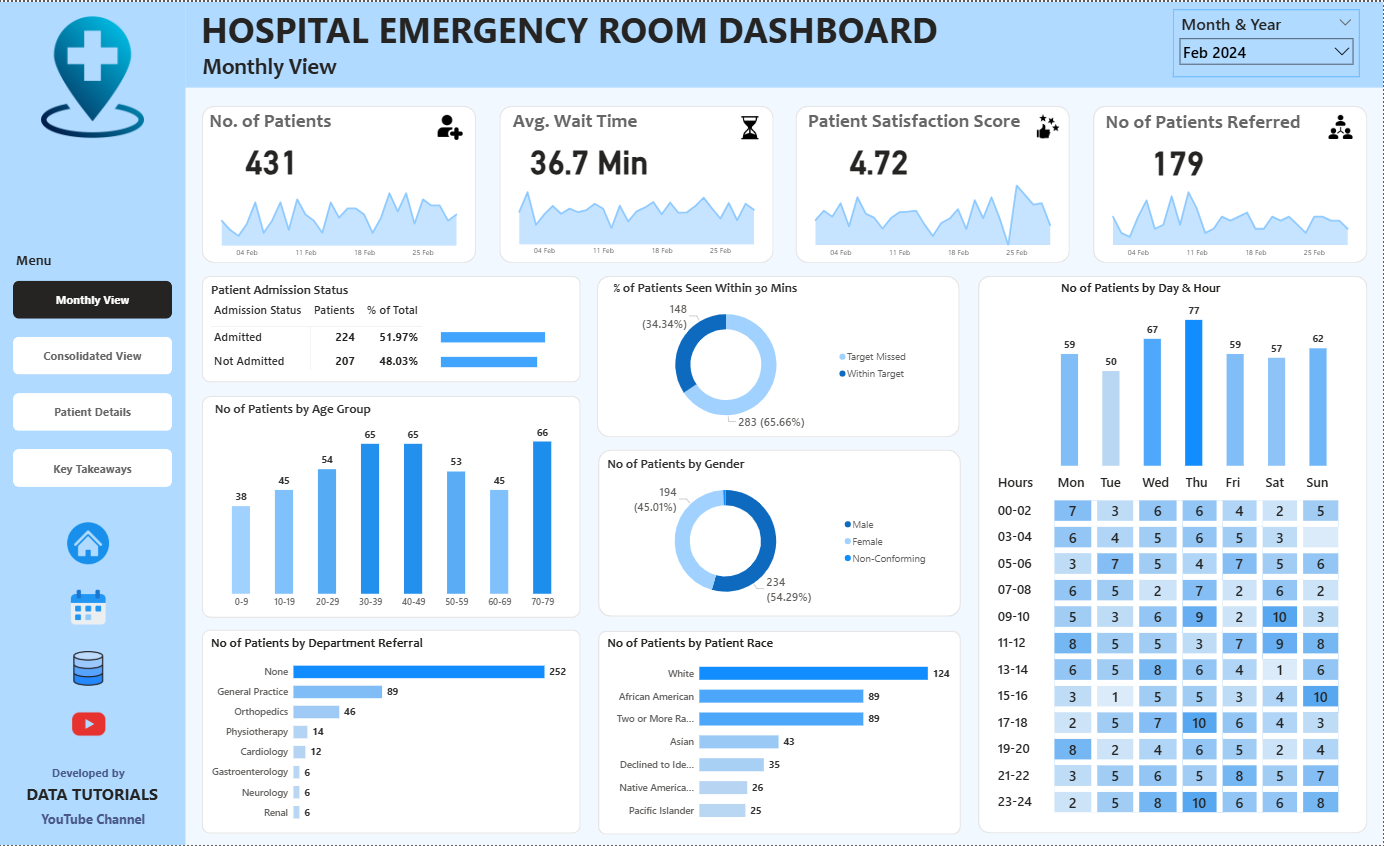

Layout of this report page (visuals, bound fields, positions):
{"tool":"powerbi","page":{"name":"Monthly View","canvas":[2300,1400],"ordinal":0},"visuals":[{"type":"shape","box":[0,0,320,1400],"z":0},{"type":"shape","box":[320.9,0,1979.1,140],"z":1000},{"type":"textbox","box":[320.9,0,1257.7,96.9],"z":2000},{"type":"shape","box":[339.5,161.9,455,260.8],"z":3000},{"type":"textbox","box":[321.2,78.8,285,61.2],"z":4000},{"type":"card","fields":{"Values":["mt4w8abaHayncGoPQZpxhQ.No Of Patient"]},"box":[371,211.3,173.1,96.7],"z":5000},{"type":"slicer","fields":{"Values":["Date Table.Month Name"]},"box":[1958.3,24.7,274.3,85.4],"z":6000},{"type":"slicer","fields":{"Values":["Date Table.Year"]},"box":[1661.5,24.7,274.3,85.4],"z":7000},{"type":"textbox","box":[364.2,179.9,242.8,60.7],"z":8000},{"type":"areaChart","fields":{"Category":["Date Table.Date.Variation.Date Hierarchy.Day"],"Y":["mt4w8abaHayncGoPQZpxhQ.No Of Patient"]},"box":[340.4,279.3,434.3,144],"z":9000},{"type":"card","fields":{"Values":["Min(Date Table.Month & Year)"]},"box":[674.3,89.5,198.6,37.1],"z":10000},{"type":"shape","box":[834.3,166,455,258.7],"z":11000},{"type":"card","fields":{"Values":["mt4w8abaHayncGoPQZpxhQ.Avg Wait Time"]},"box":[872.9,209.5,209.5,96],"z":12000},{"type":"textbox","box":[850.3,174.3,242.8,60.7],"z":13000},{"type":"areaChart","fields":{"Category":["Date Table.Date.Variation.Date Hierarchy.Day"],"Y":["Sum(mt4w8abaHayncGoPQZpxhQ.Patient Waittime)"]},"box":[846.7,279.3,434.3,144],"z":14000},{"type":"shape","box":[1329.1,163.9,455,260.9],"z":15000},{"type":"card","fields":{"Values":["mt4w8abaHayncGoPQZpxhQ.Satisfaction Score"]},"box":[1365.8,217.9,173.1,96.7],"z":16000},{"type":"textbox","box":[1359.5,185.5,375.3,61.1],"z":17000},{"type":"shape","box":[340.2,478.9,631.3,176.9],"z":18000},{"type":"areaChart","fields":{"Category":["Date Table.Date.Variation.Date Hierarchy.Day"],"Y":["mt4w8abaHayncGoPQZpxhQ.Satisfaction Score"]},"box":[1335.3,285.9,434.3,144],"z":19000},{"type":"shape","box":[1824,163.9,455,260.9],"z":20000},{"type":"card","fields":{"Values":["mt4w8abaHayncGoPQZpxhQ.No of Patient Reffered"]},"box":[1897.1,224.8,173.1,96.7],"z":21000},{"type":"textbox","box":[1891.3,193.2,364.7,59.9],"z":22000},{"type":"areaChart","fields":{"Category":["Date Table.Date.Variation.Date Hierarchy.Day"],"Y":["mt4w8abaHayncGoPQZpxhQ.No of Patient Reffered"]},"box":[1866.5,292.8,434.3,144],"z":23000},{"type":"pivotTable","title":"Patient Admission Status","fields":{"Rows":["mt4w8abaHayncGoPQZpxhQ.Admission Status"],"Values":["mt4w8abaHayncGoPQZpxhQ.No Of Patient1","mt4w8abaHayncGoPQZpxhQ.No Of Patient"]},"box":[340.2,478.9,631.3,176.9],"z":24000},{"type":"barChart","fields":{"Category":["mt4w8abaHayncGoPQZpxhQ.Admission Status"],"Y":["mt4w8abaHayncGoPQZpxhQ.No of Patient Reffered"]},"box":[702.1,533.4,215,106.1],"z":25000},{"type":"shape","box":[340.2,655.8,631.3,370.1],"z":26000},{"type":"clusteredColumnChart","fields":{"Category":["mt4w8abaHayncGoPQZpxhQ.Age Group"],"Y":["mt4w8abaHayncGoPQZpxhQ.No Of Patient"]},"box":[340.2,655.8,631.3,370.1],"z":27000},{"type":"shape","box":[340.2,1028.6,631.3,370.1],"z":28000},{"type":"clusteredBarChart","fields":{"Category":["mt4w8abaHayncGoPQZpxhQ.Department Referral"],"Y":["mt4w8abaHayncGoPQZpxhQ.No Of Patient"]},"box":[340.2,1050.4,609.6,326.6],"z":29000},{"type":"shape","box":[1028.9,480,600,271.1],"z":30000},{"type":"donutChart","title":"% Of Patients Within 30 Mins","fields":{"Category":["mt4w8abaHayncGoPQZpxhQ.waittime status"],"Y":["mt4w8abaHayncGoPQZpxhQ.No Of Patient"]},"box":[1011.1,480,544.4,271.1],"z":31000},{"type":"image","box":[724.8,183.1,52.8,51.2],"z":32000},{"type":"image","box":[1222.3,183.9,52.2,48.1],"z":33000},{"type":"image","box":[1735.6,182.2,57.8,51.1],"z":34000},{"type":"image","box":[2237.8,184.4,62.2,48.9],"z":35000},{"type":"image","box":[46.9,17.9,218.9,212.2],"z":36000},{"type":"image","box":[110.1,854.1,79.5,87.7],"z":37000},{"type":"image","box":[116.2,966.2,67.3,75.4],"z":38000},{"type":"image","box":[116.2,1068.1,67.3,75.4],"z":39000},{"type":"shape","box":[1028.9,771.1,600,271.1],"z":40000},{"type":"donutChart","title":"No Of Patients By Gender","fields":{"Category":["mt4w8abaHayncGoPQZpxhQ.Patient Gender"],"Y":["mt4w8abaHayncGoPQZpxhQ.No Of Patient"]},"box":[1011.1,780,544.4,271.1],"z":41000},{"type":"clusteredBarChart","fields":{"Category":["mt4w8abaHayncGoPQZpxhQ.Patient Race"],"Y":["mt4w8abaHayncGoPQZpxhQ.No Of Patient"]},"box":[1020,1068.9,608.9,326.7],"z":42000},{"type":"shape","box":[1680,480,600,897.8],"z":43000},{"type":"pivotTable","fields":{"Columns":["Date Table.Day Name"],"Rows":["mt4w8abaHayncGoPQZpxhQ.Waittime Interval"],"Values":["mt4w8abaHayncGoPQZpxhQ.No Of Patient"]},"box":[1681.4,751.2,607,614],"z":44000},{"type":"clusteredColumnChart","title":"No Of Patient By Day & Hour","fields":{"Category":["Date Table.Day Name"],"Y":["mt4w8abaHayncGoPQZpxhQ.No Of Patient"]},"box":[1797.7,486,472.1,265.1],"z":45000},{"type":"pageNavigator","box":[22.8,454.4,263.5,342.3],"z":46000},{"type":"textbox","box":[24.2,409.1,99.9,48.3],"z":47000},{"type":"textbox","box":[77.3,1261.1,146.6,37],"z":48000},{"type":"textbox","box":[24.9,1290.5,263.5,95.4],"z":48001}]}

Visuals, with their boxes in screenshot pixels (x1, y1, x2, y2), scaled from the page's 2300x1400 canvas onto the 1384x846 screenshot:
shape: (x1=0, y1=0, x2=193, y2=845)
shape: (x1=193, y1=0, x2=1383, y2=85)
textbox: (x1=193, y1=0, x2=950, y2=59)
shape: (x1=204, y1=98, x2=478, y2=255)
textbox: (x1=193, y1=48, x2=365, y2=85)
card - mt4w8abaHayncGoPQZpxhQ.No Of Patient: (x1=223, y1=128, x2=327, y2=186)
slicer - Date Table.Month Name: (x1=1178, y1=15, x2=1343, y2=67)
slicer - Date Table.Year: (x1=1000, y1=15, x2=1165, y2=67)
textbox: (x1=219, y1=109, x2=365, y2=145)
areaChart - Date Table.Date.Variation.Date Hierarchy.Day x mt4w8abaHayncGoPQZpxhQ.No Of Patient: (x1=205, y1=169, x2=466, y2=256)
card - Min(Date Table.Month & Year): (x1=406, y1=54, x2=525, y2=77)
shape: (x1=502, y1=100, x2=776, y2=257)
card - mt4w8abaHayncGoPQZpxhQ.Avg Wait Time: (x1=525, y1=127, x2=651, y2=185)
textbox: (x1=512, y1=105, x2=658, y2=142)
areaChart - Date Table.Date.Variation.Date Hierarchy.Day x Sum(mt4w8abaHayncGoPQZpxhQ.Patient Waittime): (x1=509, y1=169, x2=771, y2=256)
shape: (x1=800, y1=99, x2=1074, y2=257)
card - mt4w8abaHayncGoPQZpxhQ.Satisfaction Score: (x1=822, y1=132, x2=926, y2=190)
textbox: (x1=818, y1=112, x2=1044, y2=149)
shape: (x1=205, y1=289, x2=585, y2=396)
areaChart - Date Table.Date.Variation.Date Hierarchy.Day x mt4w8abaHayncGoPQZpxhQ.Satisfaction Score: (x1=804, y1=173, x2=1065, y2=260)
shape: (x1=1098, y1=99, x2=1371, y2=257)
card - mt4w8abaHayncGoPQZpxhQ.No of Patient Reffered: (x1=1142, y1=136, x2=1246, y2=194)
textbox: (x1=1138, y1=117, x2=1358, y2=153)
areaChart - Date Table.Date.Variation.Date Hierarchy.Day x mt4w8abaHayncGoPQZpxhQ.No of Patient Reffered: (x1=1123, y1=177, x2=1383, y2=264)
"Patient Admission Status" pivotTable: (x1=205, y1=289, x2=585, y2=396)
barChart - mt4w8abaHayncGoPQZpxhQ.Admission Status x mt4w8abaHayncGoPQZpxhQ.No of Patient Reffered: (x1=422, y1=322, x2=552, y2=386)
shape: (x1=205, y1=396, x2=585, y2=620)
clusteredColumnChart - mt4w8abaHayncGoPQZpxhQ.Age Group x mt4w8abaHayncGoPQZpxhQ.No Of Patient: (x1=205, y1=396, x2=585, y2=620)
shape: (x1=205, y1=622, x2=585, y2=845)
clusteredBarChart - mt4w8abaHayncGoPQZpxhQ.Department Referral x mt4w8abaHayncGoPQZpxhQ.No Of Patient: (x1=205, y1=635, x2=572, y2=832)
shape: (x1=619, y1=290, x2=980, y2=454)
"% Of Patients Within 30 Mins" donutChart: (x1=608, y1=290, x2=936, y2=454)
image: (x1=436, y1=111, x2=468, y2=142)
image: (x1=736, y1=111, x2=767, y2=140)
image: (x1=1044, y1=110, x2=1079, y2=141)
image: (x1=1347, y1=111, x2=1383, y2=141)
image: (x1=28, y1=11, x2=160, y2=139)
image: (x1=66, y1=516, x2=114, y2=569)
image: (x1=70, y1=584, x2=110, y2=629)
image: (x1=70, y1=645, x2=110, y2=691)
shape: (x1=619, y1=466, x2=980, y2=630)
"No Of Patients By Gender" donutChart: (x1=608, y1=471, x2=936, y2=635)
clusteredBarChart - mt4w8abaHayncGoPQZpxhQ.Patient Race x mt4w8abaHayncGoPQZpxhQ.No Of Patient: (x1=614, y1=646, x2=980, y2=843)
shape: (x1=1011, y1=290, x2=1372, y2=833)
pivotTable - Date Table.Day Name x mt4w8abaHayncGoPQZpxhQ.Waittime Interval: (x1=1012, y1=454, x2=1377, y2=825)
"No Of Patient By Day & Hour" clusteredColumnChart: (x1=1082, y1=294, x2=1366, y2=454)
pageNavigator: (x1=14, y1=275, x2=172, y2=481)
textbox: (x1=15, y1=247, x2=75, y2=276)
textbox: (x1=47, y1=762, x2=135, y2=784)
textbox: (x1=15, y1=780, x2=174, y2=837)
